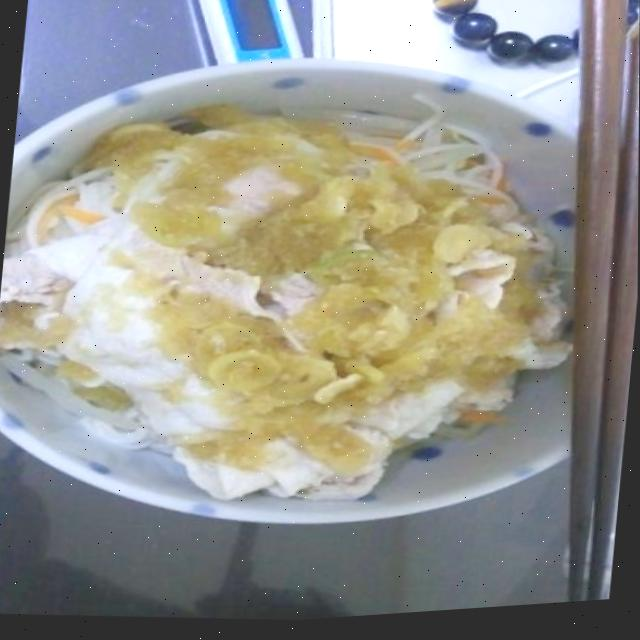面条主食: (0, 0, 640, 587)
